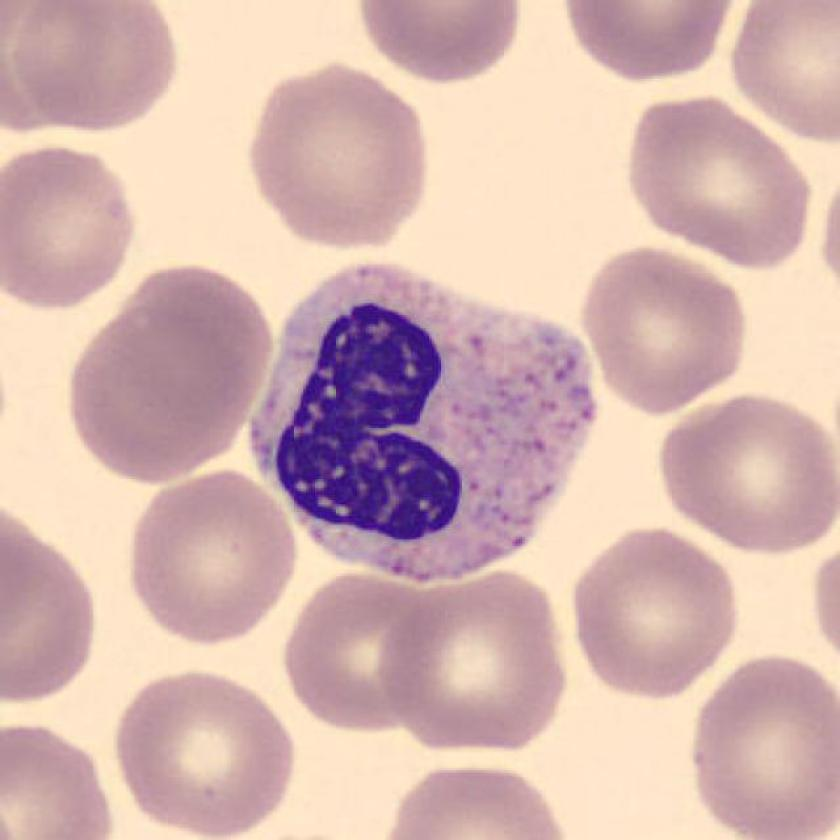neutrophil: (252, 261, 594, 581)
